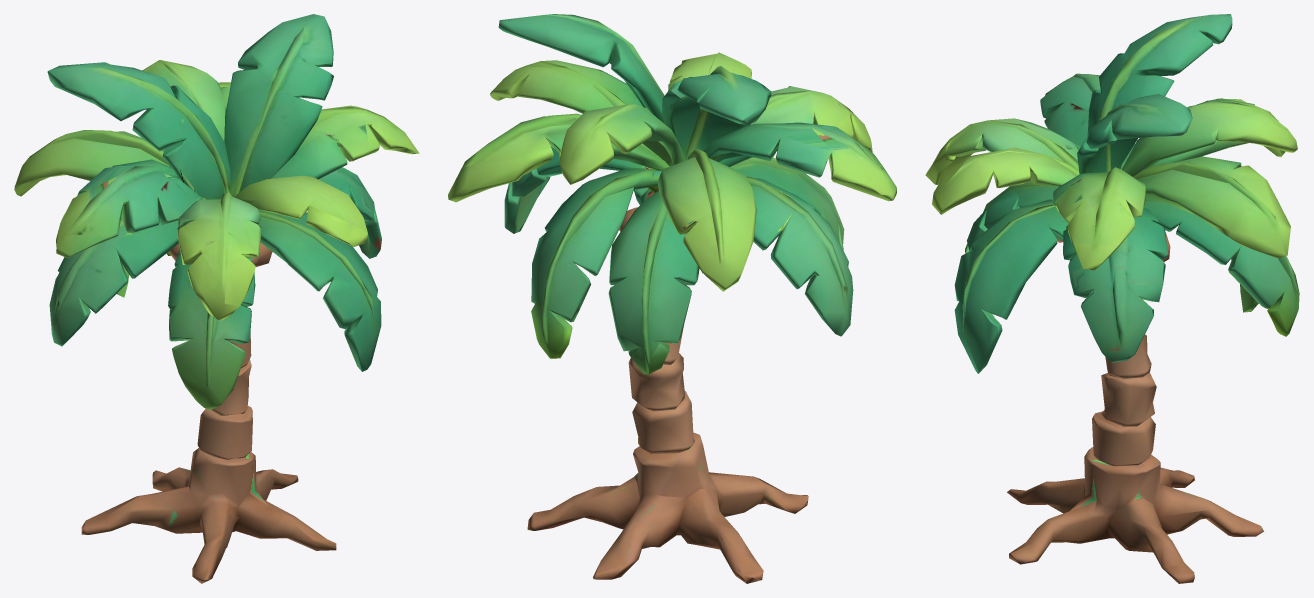
The model's file is palm-tree-mobile.glb.
3 views of the same model, side by side, from view 1: azimuth 30°, elevation 25°; view 2: azimuth 150°, elevation 25°; view 3: azimuth 270°, elevation 25° (orthographic). The views are drawn at different scales.
Visible parts, largest first — view 1: model; view 2: model; view 3: model.
Part boxes in pixels (<box>): model: <box>14,14,419,583</box>; model: <box>448,14,896,583</box>; model: <box>925,14,1299,583</box>.
Bounding box in the file's own units: 1.57 × 1.9 × 1.36.
Materials: 1 (1 with a texture image).
